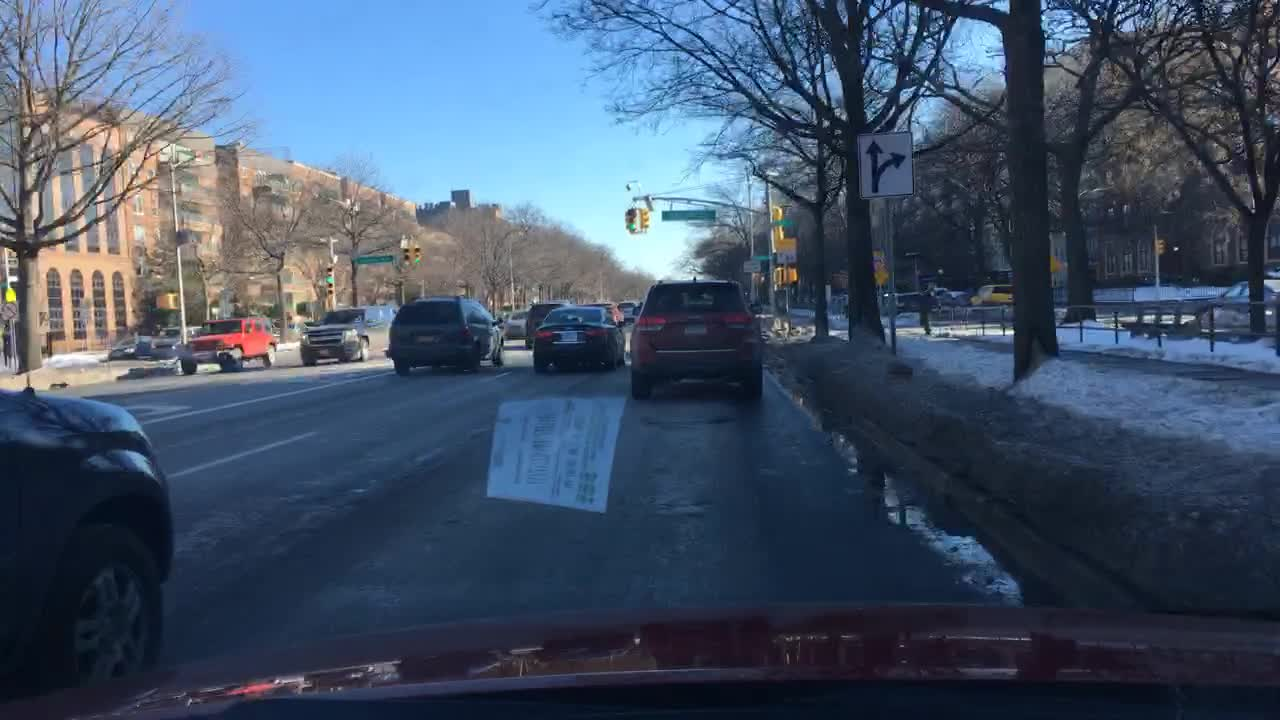car: (0, 387, 180, 716), (630, 277, 765, 401), (380, 296, 506, 374), (299, 303, 399, 365), (534, 305, 626, 371), (178, 313, 275, 374), (1201, 278, 1279, 337), (525, 298, 572, 350), (148, 326, 200, 359), (106, 333, 151, 359), (882, 292, 927, 313), (971, 284, 1014, 305), (503, 308, 530, 338), (597, 299, 624, 324), (617, 301, 641, 323), (944, 290, 971, 307), (492, 305, 509, 327), (932, 286, 948, 305)
person: (1, 322, 11, 369), (837, 292, 842, 319), (845, 290, 849, 317)
traffic light: (769, 265, 799, 289), (154, 292, 178, 308), (626, 206, 636, 233), (638, 206, 648, 233), (326, 262, 333, 296), (413, 247, 423, 265), (1158, 236, 1165, 257), (401, 248, 408, 265)
traffic sign: (856, 131, 916, 197), (775, 236, 798, 265), (661, 209, 715, 221), (353, 254, 392, 262), (0, 301, 17, 319), (742, 259, 762, 272), (768, 220, 795, 226), (751, 254, 771, 260)
